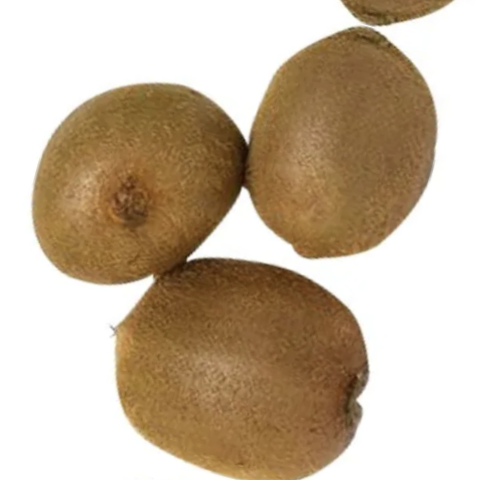kiwi: (65, 215, 420, 480), (0, 28, 287, 335), (221, 6, 480, 302)
